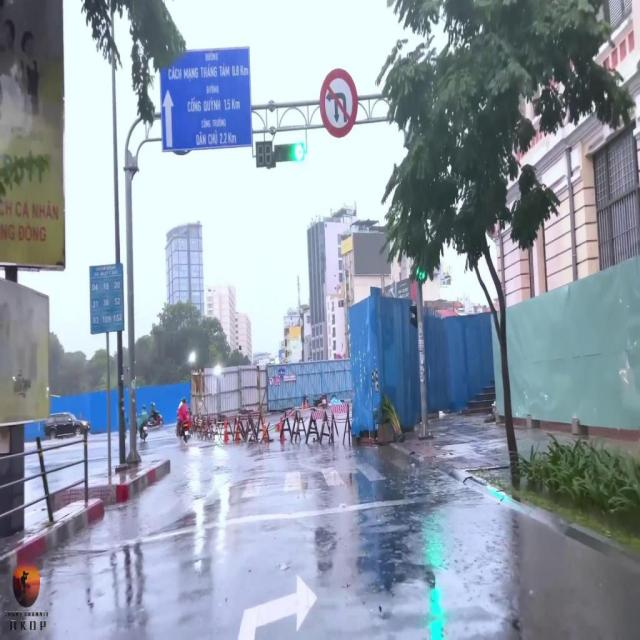cam_re_trai: (270, 377, 274, 385)
khac: (162, 48, 253, 153), (320, 70, 358, 138)
